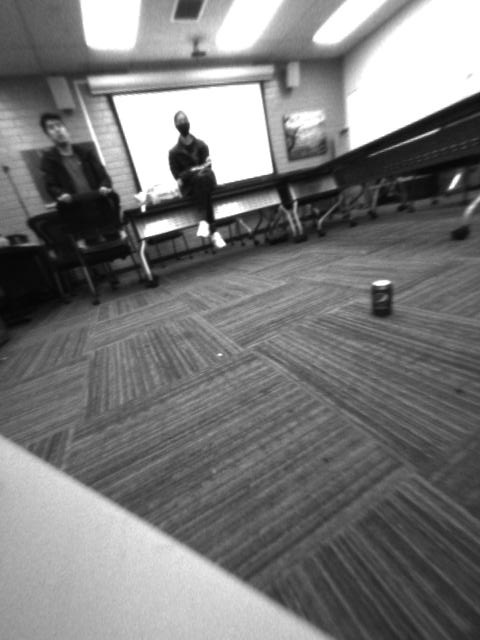can: (370, 277, 394, 321)
